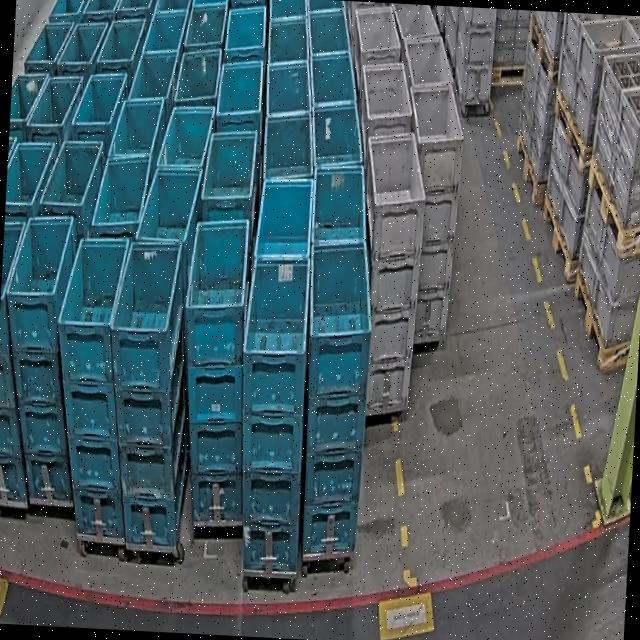4G: (353, 129, 429, 419), (396, 78, 468, 345)
B4: (99, 236, 199, 546), (46, 233, 140, 538), (294, 238, 377, 560), (173, 216, 258, 527), (232, 254, 314, 574), (0, 210, 88, 504), (0, 223, 41, 507)
